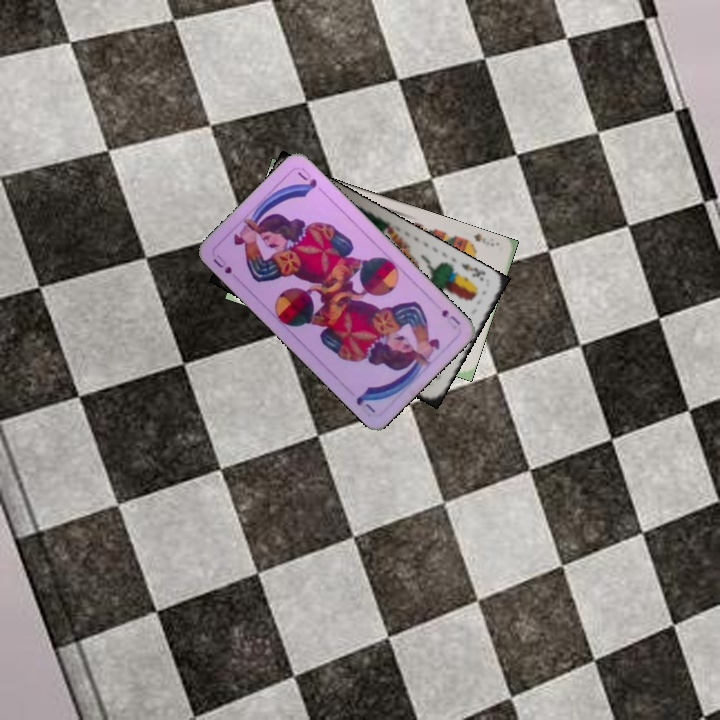EK: (457, 259, 487, 284)
S9: (469, 230, 497, 249)
SU: (437, 305, 463, 332), (209, 250, 235, 276)
